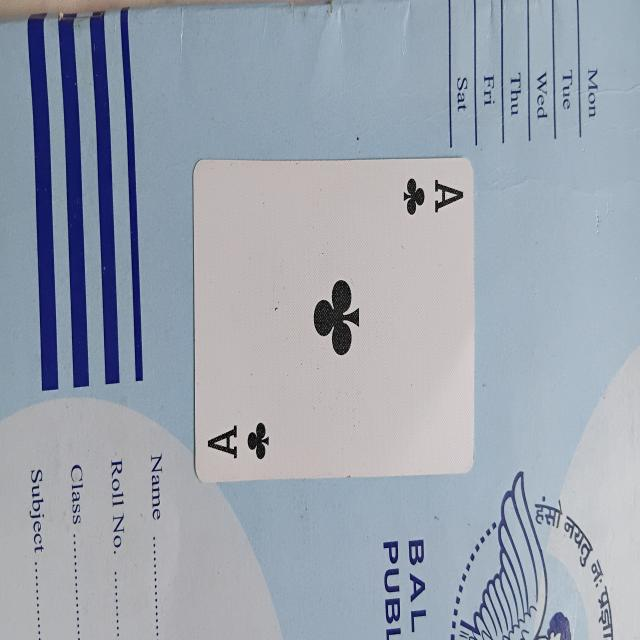AC: (194, 158, 475, 478)
